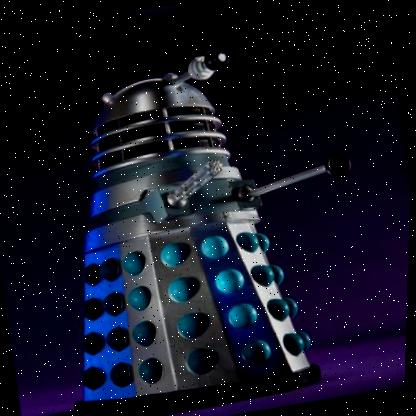dalek: (0, 0, 396, 416)
